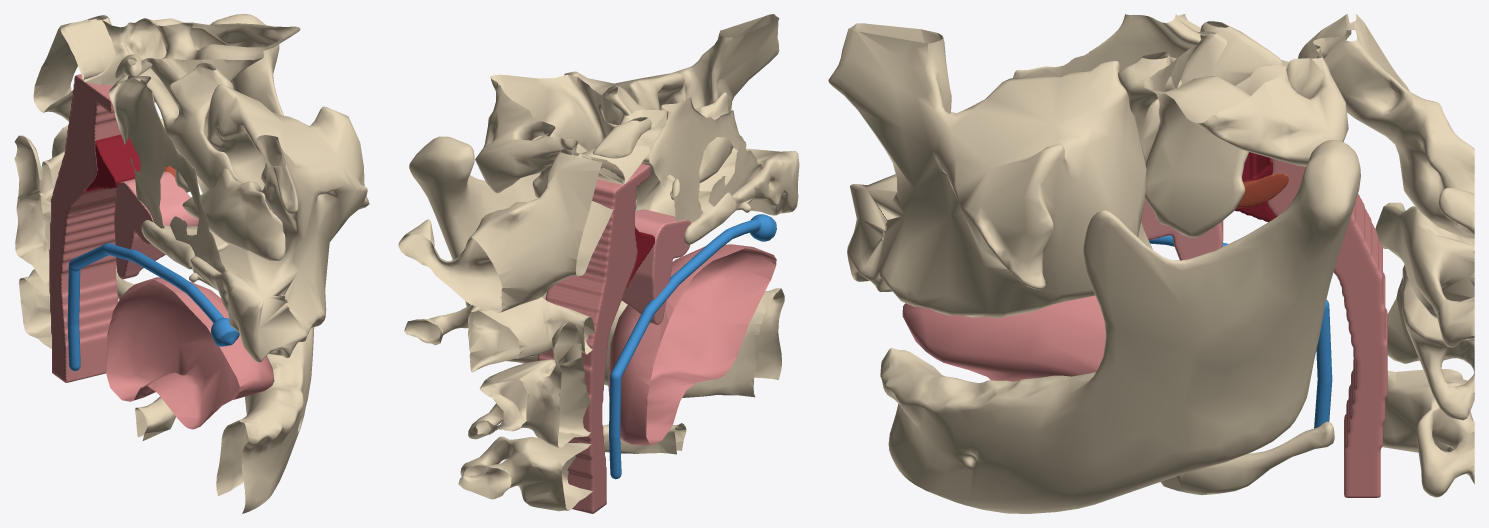
The model's file is sphincter-cut.glb.
3 renders of one model, left to right at view 1: azimuth 30°, elevation 25°; view 2: azimuth 150°, elevation 25°; view 3: azimuth 270°, elevation 25°, orthographic. The views are drawn at different scales.
Parts seen in each view (by area): view 1: bone (×11), tongue, mucosa, air, soft, flap; view 2: bone (×11), tongue, mucosa, air, soft, flap; view 3: bone (×10), mucosa, tongue, air, soft, flap, muscle.
Boxes of the visible parts, left/top/right/bottom form: bone (×11): left=14, top=14, right=369, bottom=513; tongue: left=106, top=277, right=274, bottom=429; mucosa: left=49, top=74, right=155, bottom=382; air: left=67, top=243, right=239, bottom=370; soft: left=114, top=171, right=198, bottom=279; flap: left=84, top=134, right=140, bottom=192; bone (×11): left=398, top=14, right=799, bottom=511; tongue: left=608, top=244, right=776, bottom=445; mucosa: left=537, top=163, right=650, bottom=513; air: left=609, top=214, right=776, bottom=479; soft: left=621, top=209, right=691, bottom=324; flap: left=626, top=226, right=654, bottom=286; bone (×10): left=828, top=14, right=1474, bottom=513; mucosa: left=1267, top=158, right=1387, bottom=497; tongue: left=902, top=295, right=1105, bottom=381; air: left=1149, top=235, right=1332, bottom=428; soft: left=1141, top=199, right=1223, bottom=260; flap: left=1235, top=152, right=1276, bottom=222; muscle: left=1236, top=173, right=1288, bottom=208.
Bounding box in the file's own units: 55.62 × 87 × 113.
